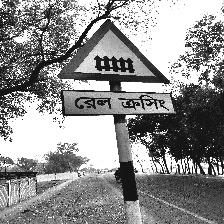Rail-crossing: (57, 19, 176, 117)
